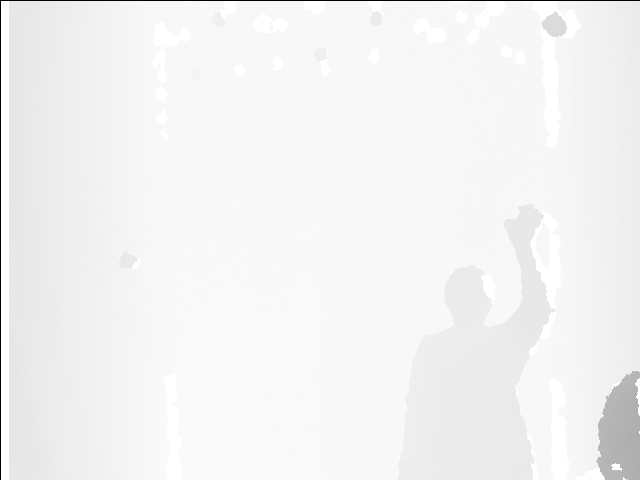hand: (500, 203, 544, 250)
